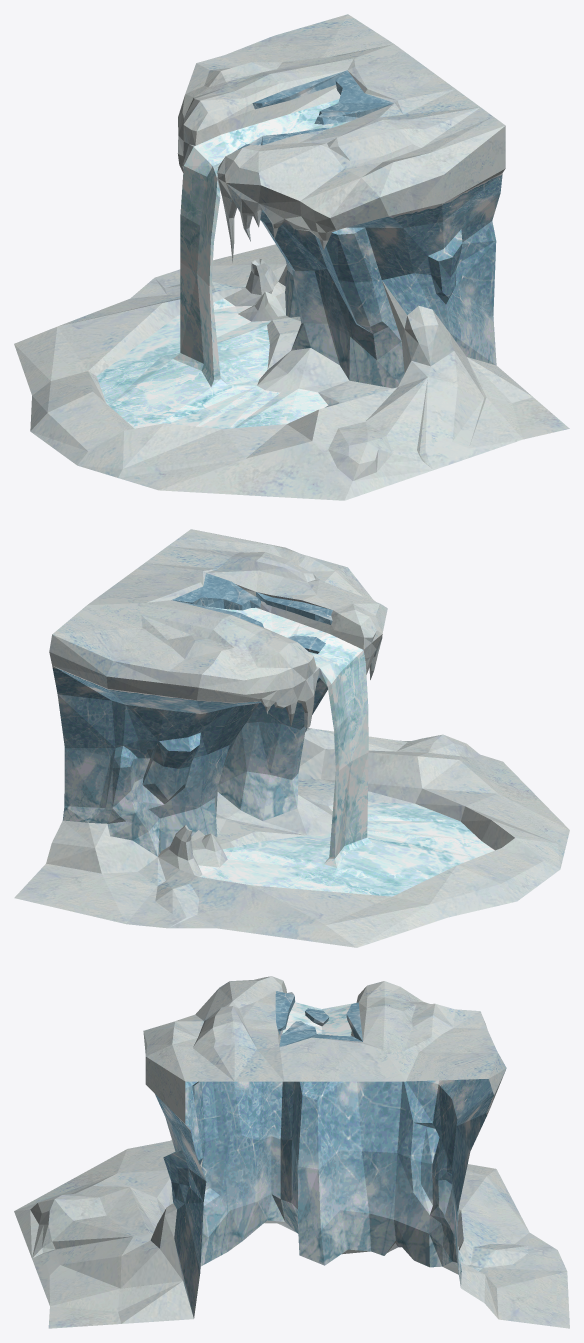
File: C1SNICEWATERFALL_H.bgf.obj
3 renders of one model, top to bottom at view 1: azimuth 30°, elevation 25°; view 2: azimuth 150°, elevation 25°; view 3: azimuth 270°, elevation 25°, orthographic. The views are drawn at different scales.
Parts seen in each view (by area): view 1: C1SNICEWATERFALL; view 2: C1SNICEWATERFALL; view 3: C1SNICEWATERFALL.
Boxes of the visible parts, <box> form: C1SNICEWATERFALL: <box>14,14,569,500</box>; C1SNICEWATERFALL: <box>14,529,569,947</box>; C1SNICEWATERFALL: <box>14,976,569,1328</box>.
Bounding box in the file's own units: 60.93 × 37.24 × 71.78.
Materials: 4 (4 with a texture image).
